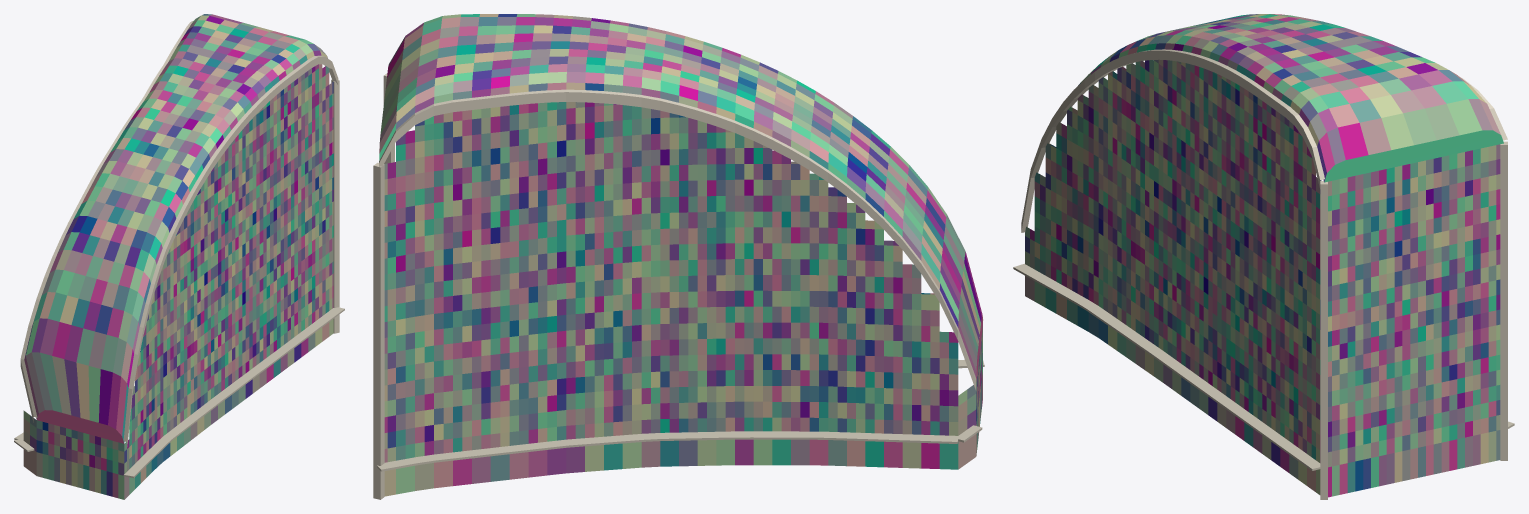
The model's file is ribbon.glb.
3 renders of one model, left to right at view 1: azimuth 30°, elevation 25°; view 2: azimuth 150°, elevation 25°; view 3: azimuth 270°, elevation 25°, orthographic. The views are drawn at different scales.
Visible parts, largest first — view 1: glass-curtain, frame-metal, shopfronts-curtain; view 2: glass-curtain, frame-metal, shopfronts-curtain; view 3: glass-curtain, frame-metal, shopfronts-curtain.
Boxes of the visible parts, x1,y1,x2,y2 form: glass-curtain: [23, 14, 333, 475]; frame-metal: [14, 20, 344, 477]; shopfronts-curtain: [23, 319, 333, 499]; glass-curtain: [379, 14, 982, 462]; frame-metal: [373, 73, 984, 499]; shopfronts-curtain: [384, 369, 982, 496]; glass-curtain: [1025, 14, 1503, 467]; frame-metal: [1013, 49, 1514, 499]; shopfronts-curtain: [1025, 276, 1500, 497].
Bounding box in the file's own units: 114 × 86 × 103.
